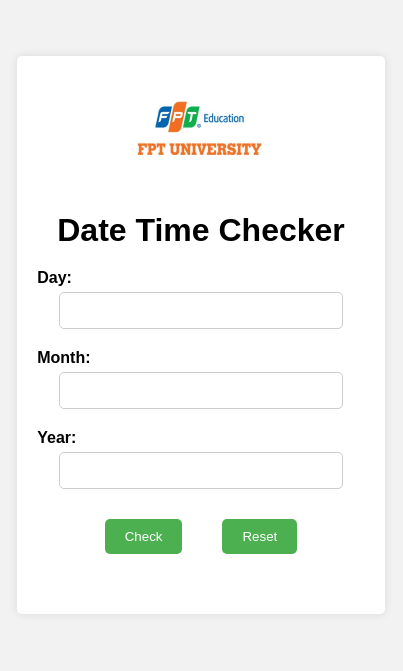
Test: DateTimeChecker › Check the day text box is null
Click the button "Check" at (144, 536), box [105,519,182,554]
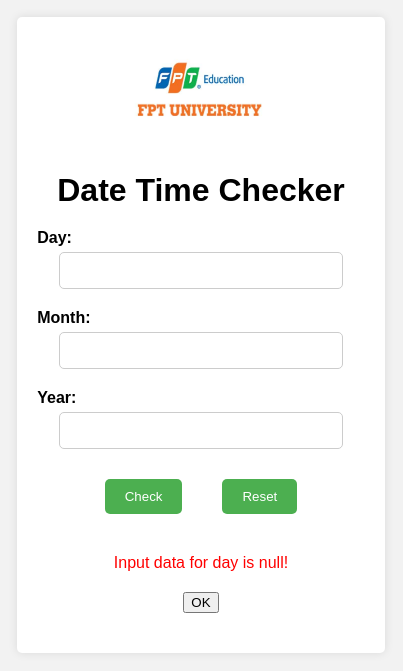
Check: the text "Input data for day is null!" is shown, box [114,554,288,571]
